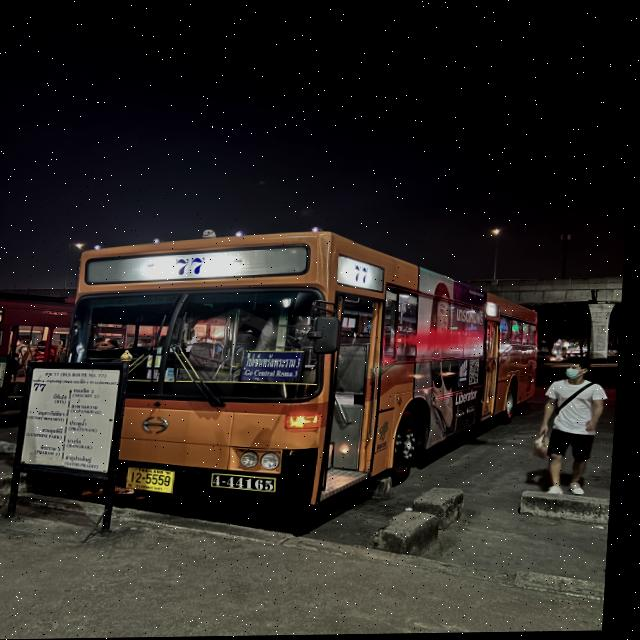BMTA-bus: (65, 229, 551, 512)
Bus-Line-Number: (158, 254, 226, 285)
Destination-Sign-Normal: (246, 352, 311, 383)
